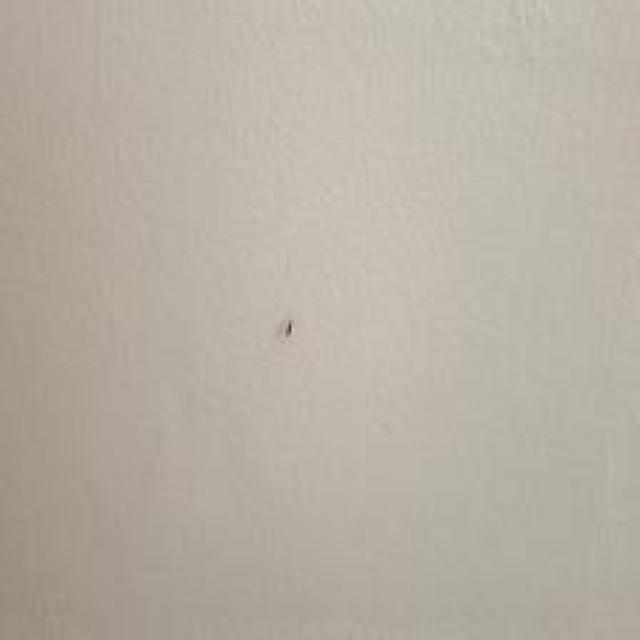Aedes albopictus: (283, 318, 294, 338)
